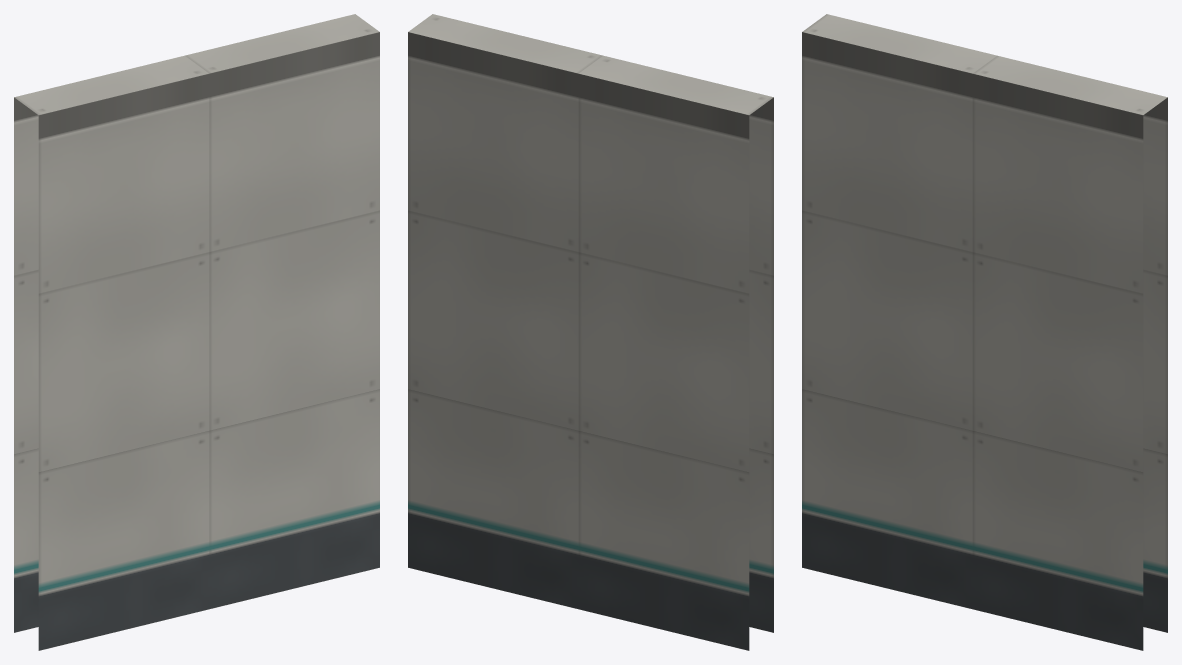
Rendered from wall_ss.fbx.
The picture shows the model from 3 angles, left to right: view 1: azimuth 30°, elevation 25°; view 2: azimuth 150°, elevation 25°; view 3: azimuth 330°, elevation 25°; orthographic projection.
Parts seen in each view (by area): view 1: wall_ss; view 2: wall_ss; view 3: wall_ss.
Part boxes in pixels (<box>): wall_ss: <box>14,14,379,650</box>; wall_ss: <box>408,14,773,650</box>; wall_ss: <box>802,14,1167,650</box>.
Size of the model in its own units: 2 by 3 by 0.25.
Materials: 1 (1 with a texture image).
